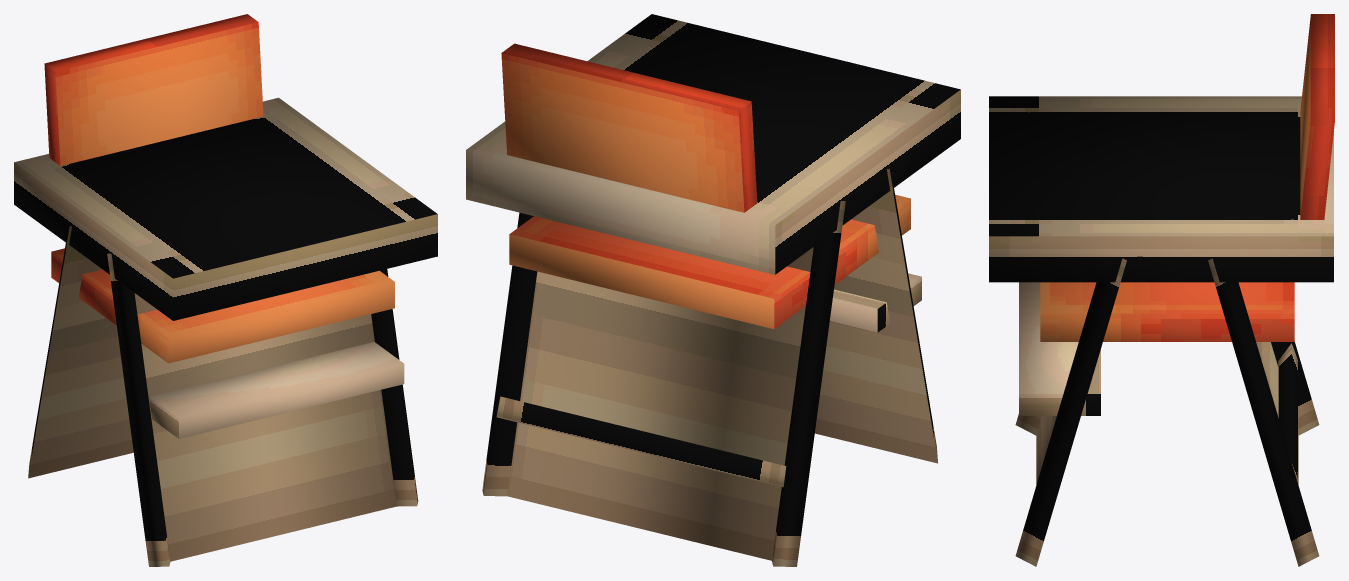
The picture shows the model from 3 angles, left to right: view 1: azimuth 30°, elevation 25°; view 2: azimuth 150°, elevation 25°; view 3: azimuth 270°, elevation 25°; orthographic projection. The views are drawn at different scales.
Parts seen in each view (by area): view 1: 3339IMIG11_10; view 2: 3339IMIG11_10; view 3: 3339IMIG11_10.
Part boxes in pixels (box(x1,y1,x2,y2)): 3339IMIG11_10: box(14, 14, 437, 566); 3339IMIG11_10: box(466, 14, 960, 566); 3339IMIG11_10: box(989, 14, 1334, 566).
Size of the model in its own units: 0.7225 by 1.01 by 0.7412.
3 materials, 3 textured.
